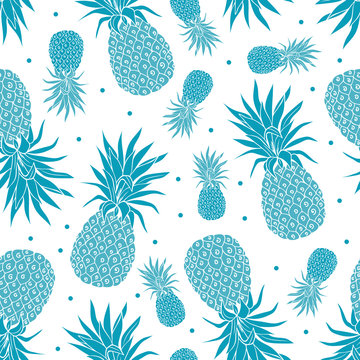Pineapple: (223, 80, 325, 241), (72, 127, 171, 292), (183, 235, 292, 360), (82, 1, 177, 103), (76, 1, 175, 96), (45, 28, 90, 116), (160, 67, 215, 138), (139, 256, 184, 327), (190, 146, 230, 222), (292, 248, 337, 315), (248, 40, 318, 75)
